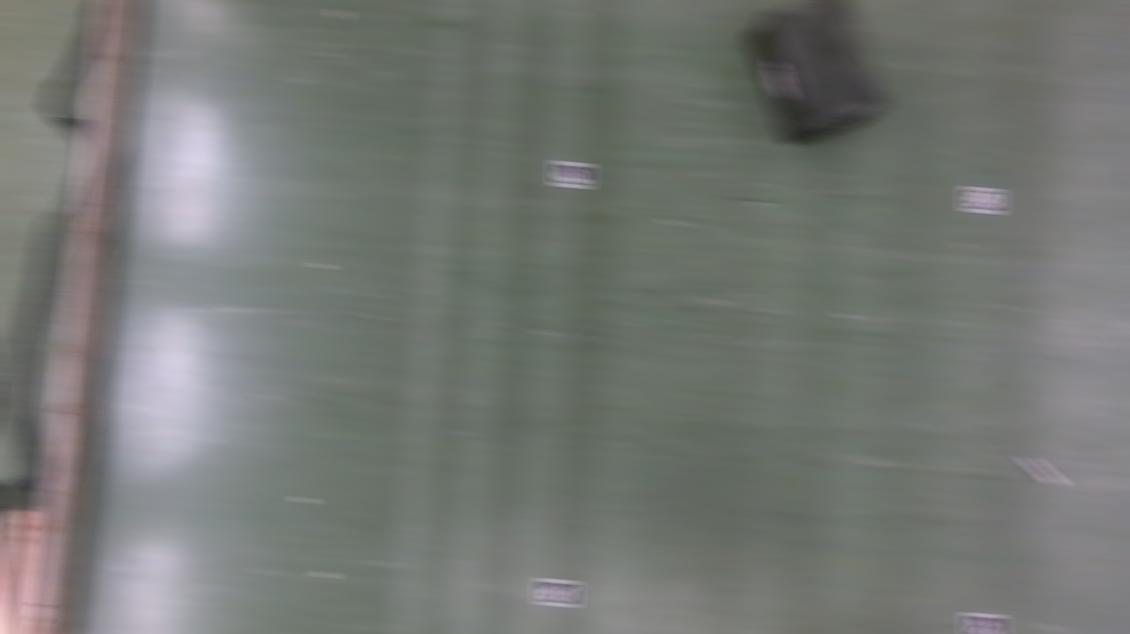probes: (1018, 453, 1064, 486)
rako: (743, 0, 890, 147)
